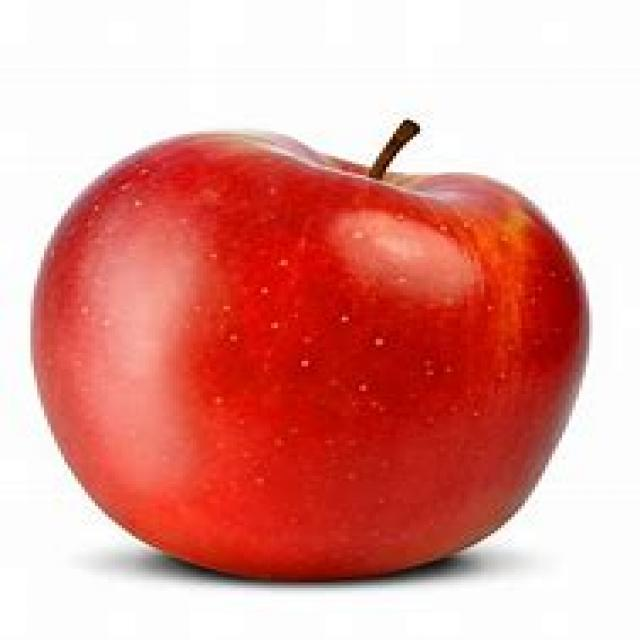Apple: (33, 112, 592, 584)
